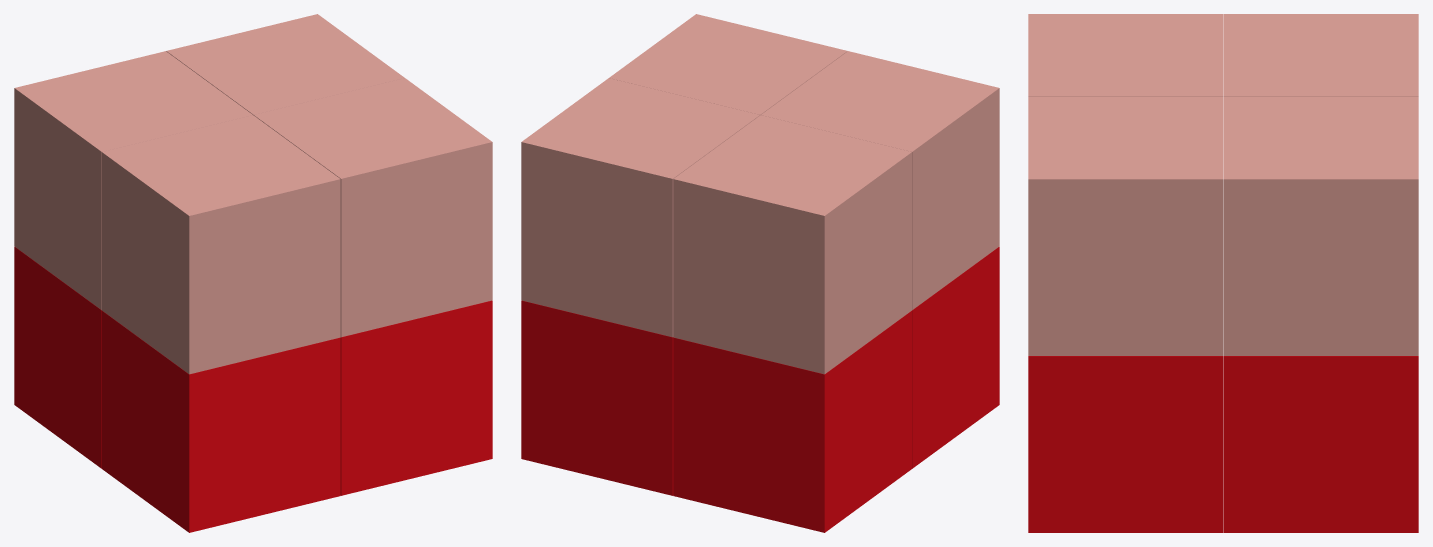
File: FlowerCubeMulti.fbx
3 views of the same model, side by side, from view 1: azimuth 30°, elevation 25°; view 2: azimuth 150°, elevation 25°; view 3: azimuth 270°, elevation 25° (orthographic). The views are drawn at different scales.
Visible parts, largest first — view 1: Cube.007, Cube.003, Cube.004, Cube.005, Cube, Cube.001, Cube.006; view 2: Cube.005, Cube.001, Cube.006, Cube.007, Cube.002, Cube.003, Cube.004; view 3: Cube.004, Cube.006, Cube, Cube.002, Cube.005, Cube.007.
Part boxes in pixels (x1=…): Cube.007: x1=102, y1=115, x2=340, y2=374; Cube.003: x1=102, y1=311, x2=340, y2=532; Cube.004: x1=253, y1=78, x2=492, y2=337; Cube.005: x1=14, y1=51, x2=252, y2=310; Cube: x1=340, y1=300, x2=492, y2=495; Cube.001: x1=14, y1=246, x2=101, y2=468; Cube.006: x1=166, y1=14, x2=404, y2=114; Cube.005: x1=673, y1=115, x2=911, y2=374; Cube.001: x1=673, y1=311, x2=911, y2=532; Cube.006: x1=521, y1=78, x2=760, y2=337; Cube.007: x1=761, y1=51, x2=999, y2=310; Cube.002: x1=521, y1=300, x2=673, y2=495; Cube.003: x1=912, y1=246, x2=999, y2=468; Cube.004: x1=609, y1=14, x2=847, y2=114; Cube.004: x1=1028, y1=96, x2=1223, y2=355; Cube.006: x1=1223, y1=96, x2=1418, y2=355; Cube: x1=1028, y1=356, x2=1223, y2=532; Cube.002: x1=1223, y1=356, x2=1418, y2=532; Cube.005: x1=1223, y1=14, x2=1418, y2=96; Cube.007: x1=1028, y1=14, x2=1223, y2=96.
Bounding box in the file's own units: 40.07 × 40.02 × 40.03.
